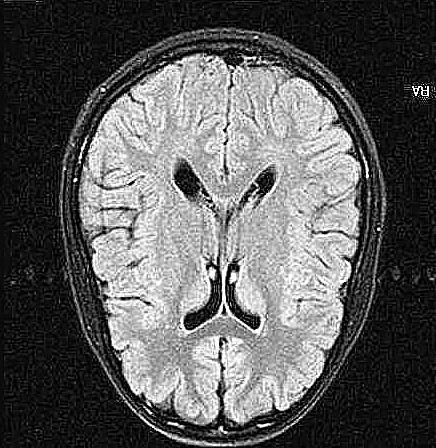Normal_Brain: (2, 1, 436, 448)
